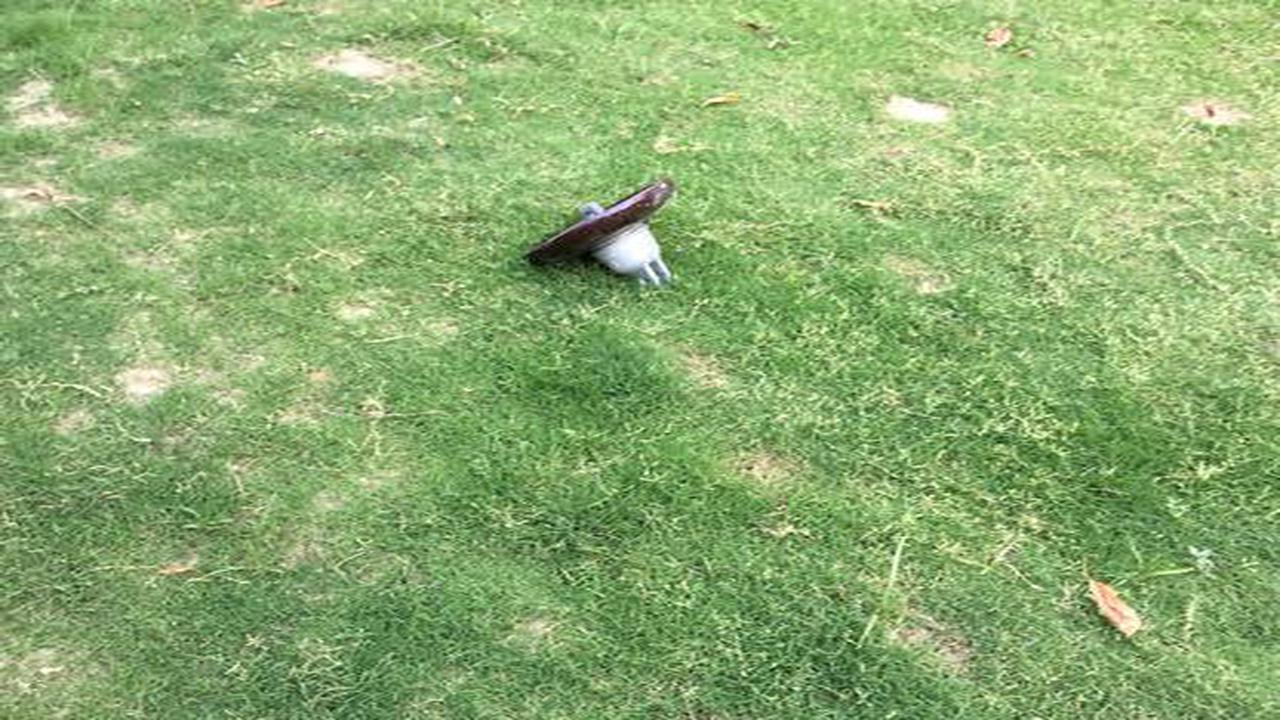insulator_disc: (518, 174, 678, 296)
